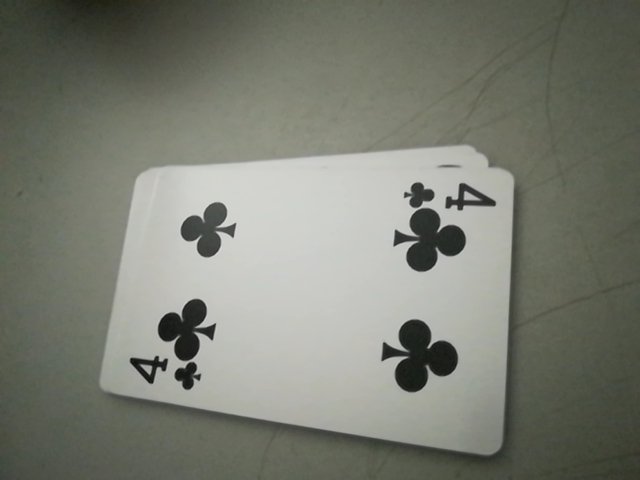mh 4: (400, 169, 506, 215), (120, 353, 206, 398)
